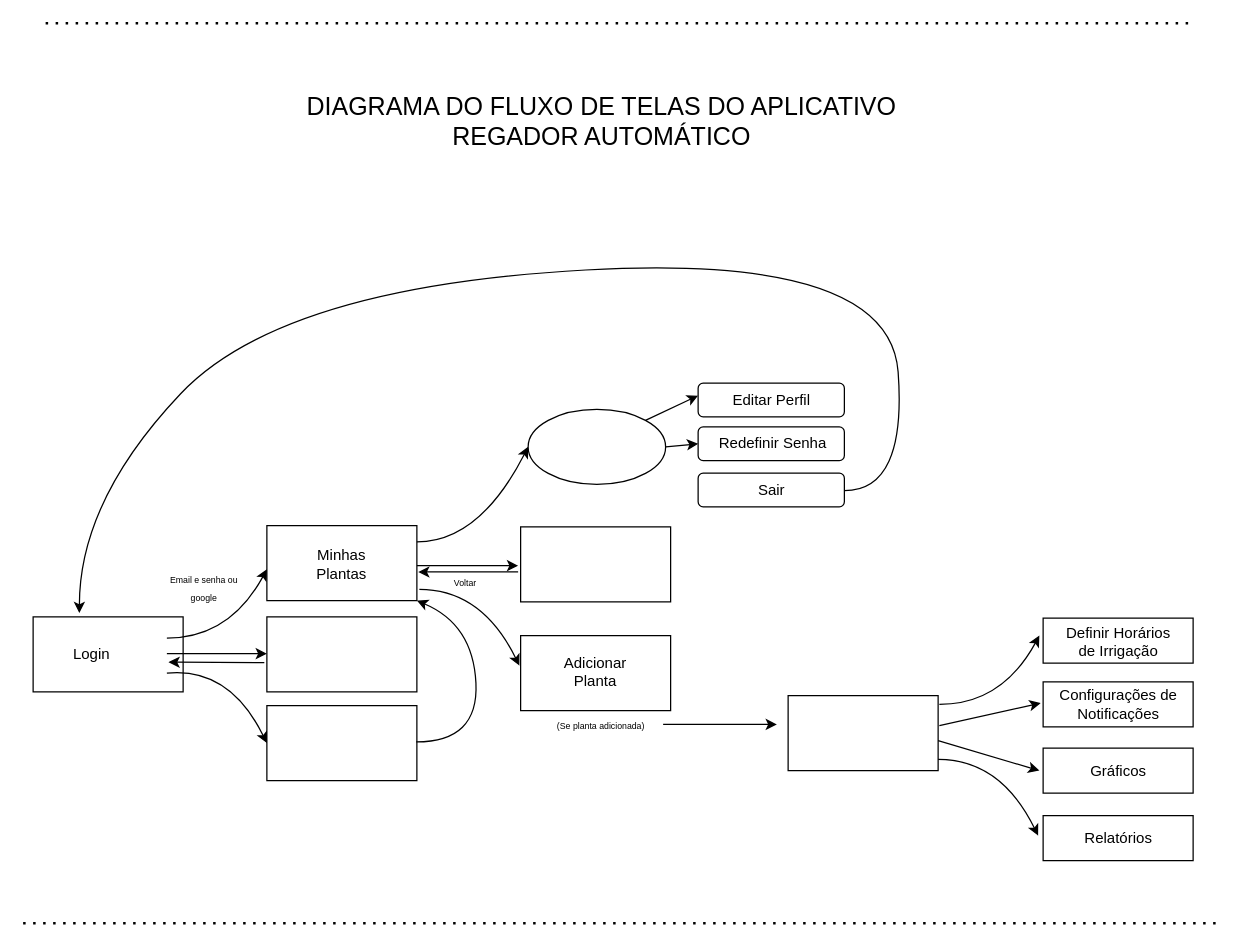
Image size: 1239x946. Some labels were removed from this diagram. Here are the shapes that lost their labels. From the top down, the centre of each, then its label:
At pixel 596 446: "Menu de Usuário".
At pixel 595 564: "Notificações".
At pixel 341 654: "Esqueceu a Senha".
At pixel 341 742: "Criar Conta".
At pixel 862 732: "Detalhes da Planta".
